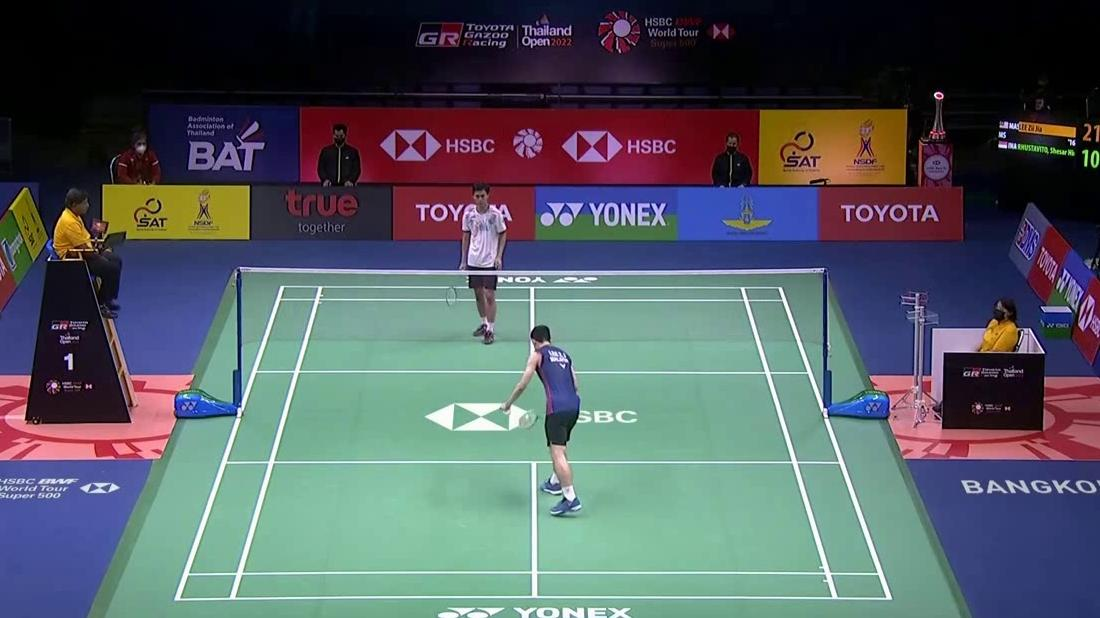racket: (518, 405, 563, 430), (446, 261, 465, 306)
shuttle: (501, 404, 511, 415)
